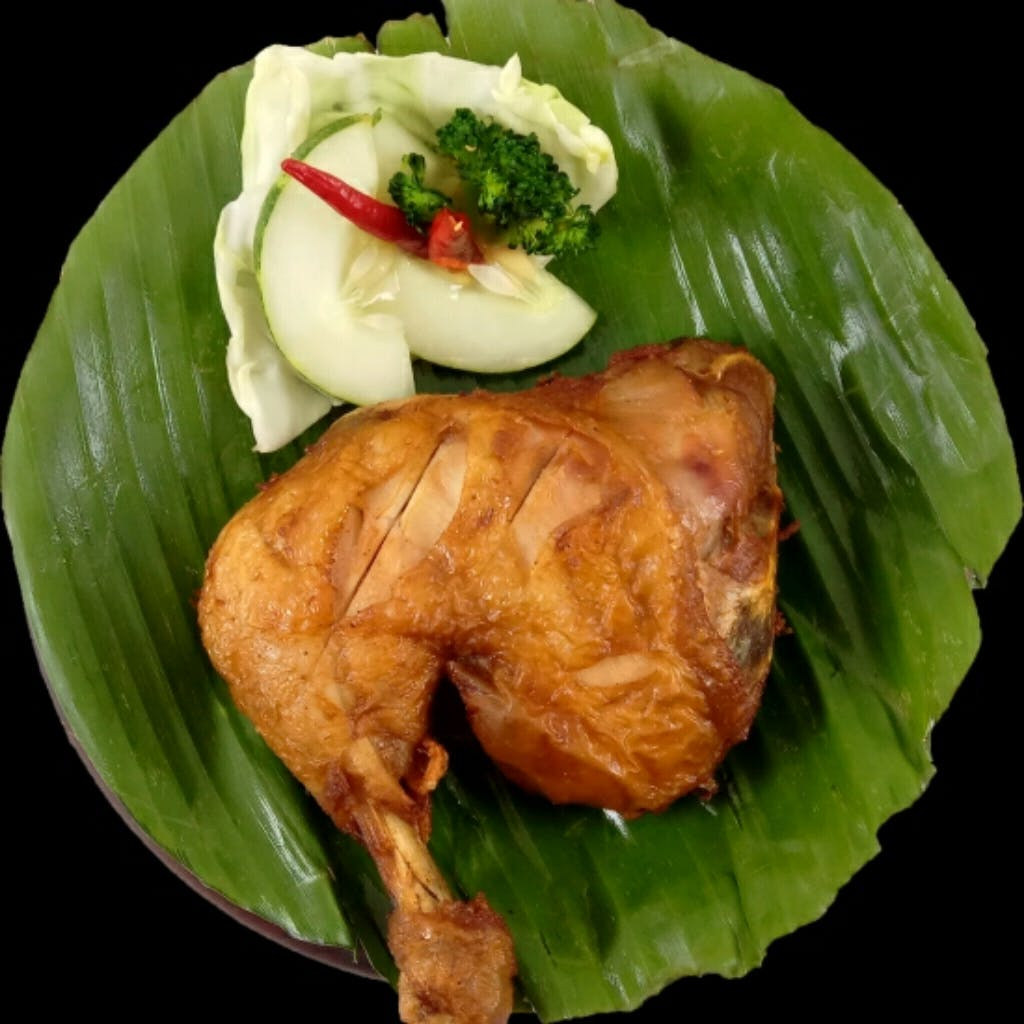Ayam: (169, 350, 822, 1024)
